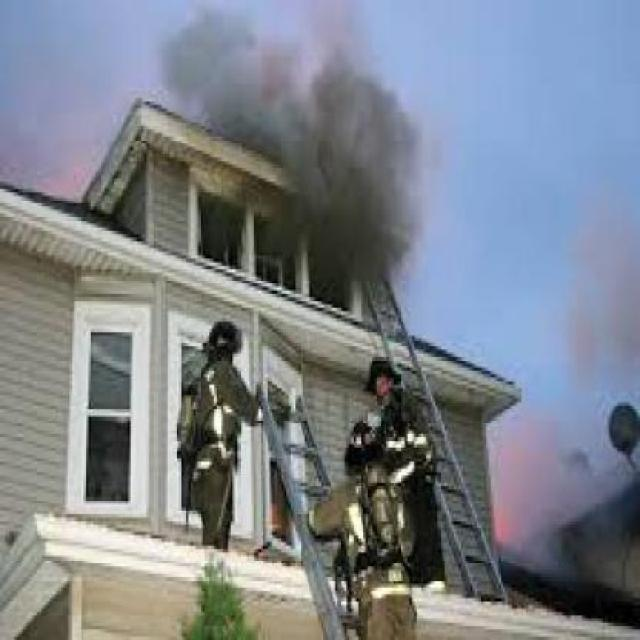Fire: (304, 417, 424, 640), (337, 366, 450, 586), (180, 323, 258, 548)
Smoke: (148, 13, 423, 281), (500, 196, 640, 610)
